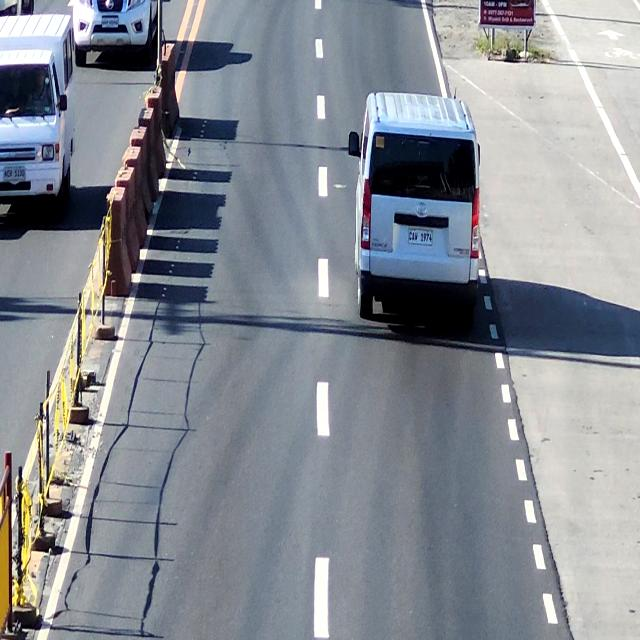Car: (353, 85, 486, 332)
License-Plate: (407, 229, 433, 247)
